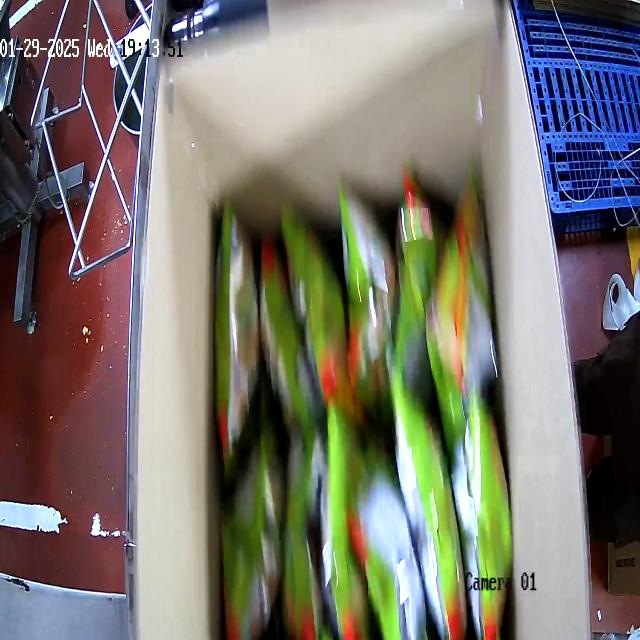YOGURT_HERB: (213, 167, 513, 638)
